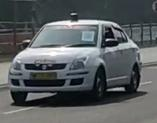Car: (7, 14, 142, 105)
